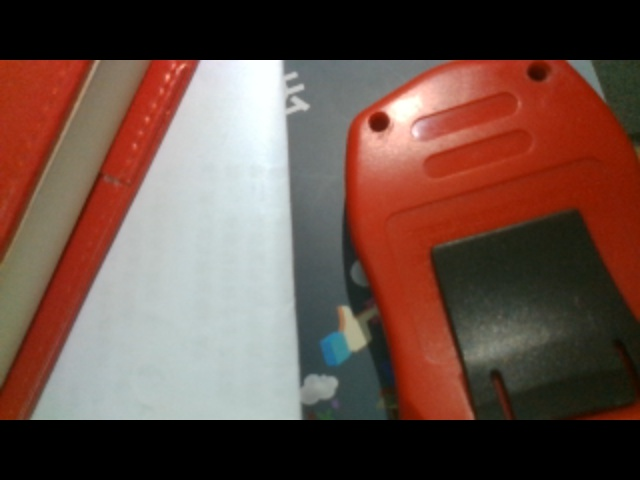Screw holes: (525, 58, 552, 84), (369, 110, 393, 134)
